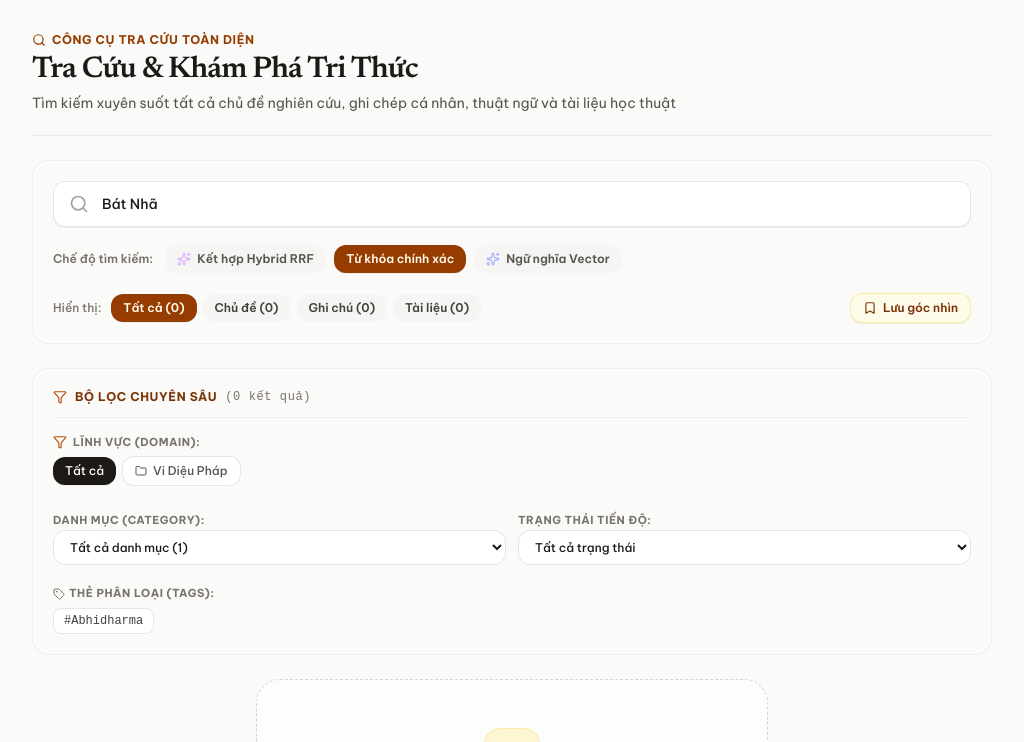
Test case: Phase P7.3b: AdvancedSearch Saved Views UI Integration › 1.2. toggles inline save panel and creates a new saved view with optional pin
Click the button "Lưu góc nhìn" at (910,308), box [850,293,971,323]
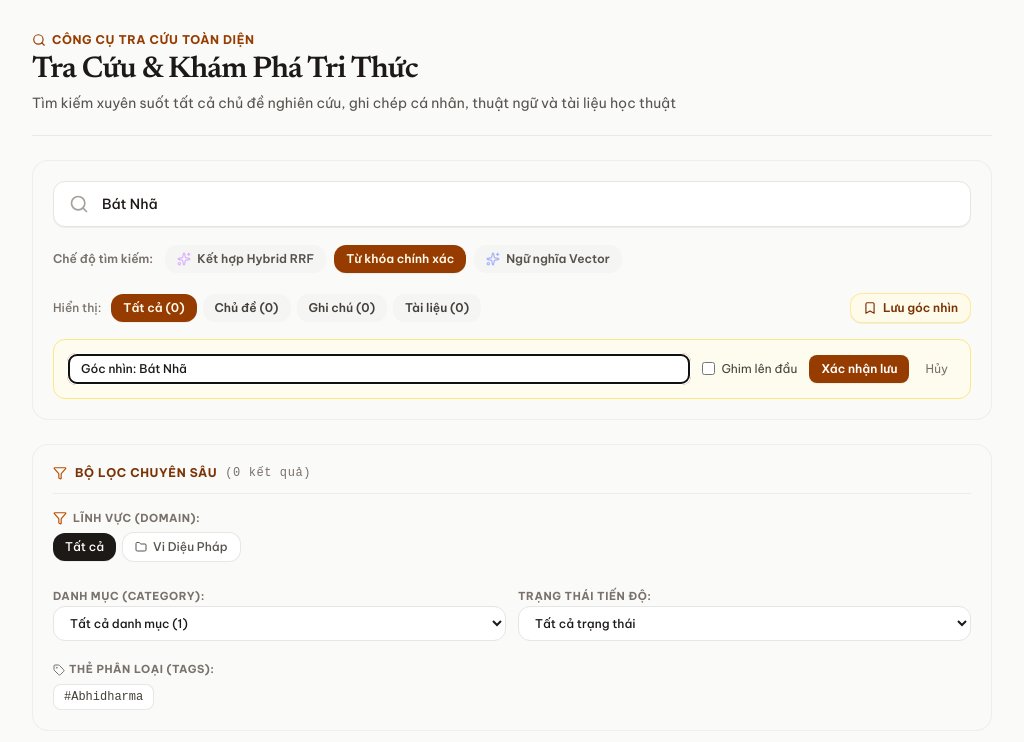
# Inline form appears
Replace the text in the field with placeholder "Tên góc nhìn nghiên cứu..." next to "Ghim lên đầu" with "Chuyên Đề Bát Nhã" at (379,369), box [68,354,690,384]
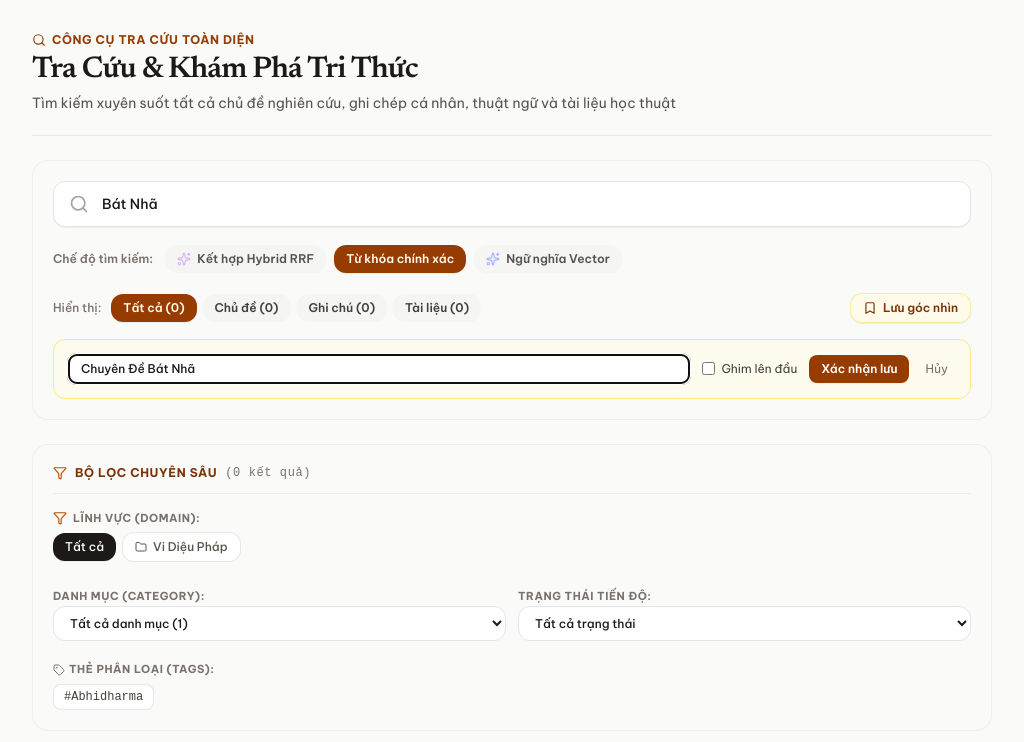
Click the checkbox labelled "Ghim lên đầu" at (709,369), box [702,362,715,375]
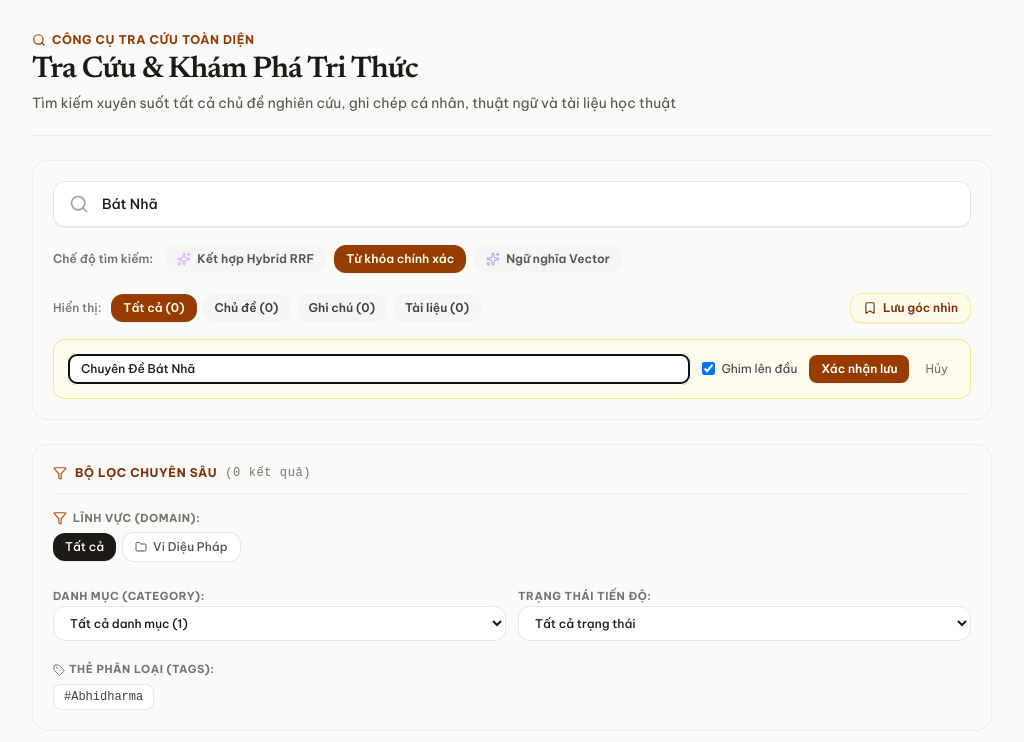
Click the button "Xác nhận lưu" at (859,369), box [809,355,909,383]
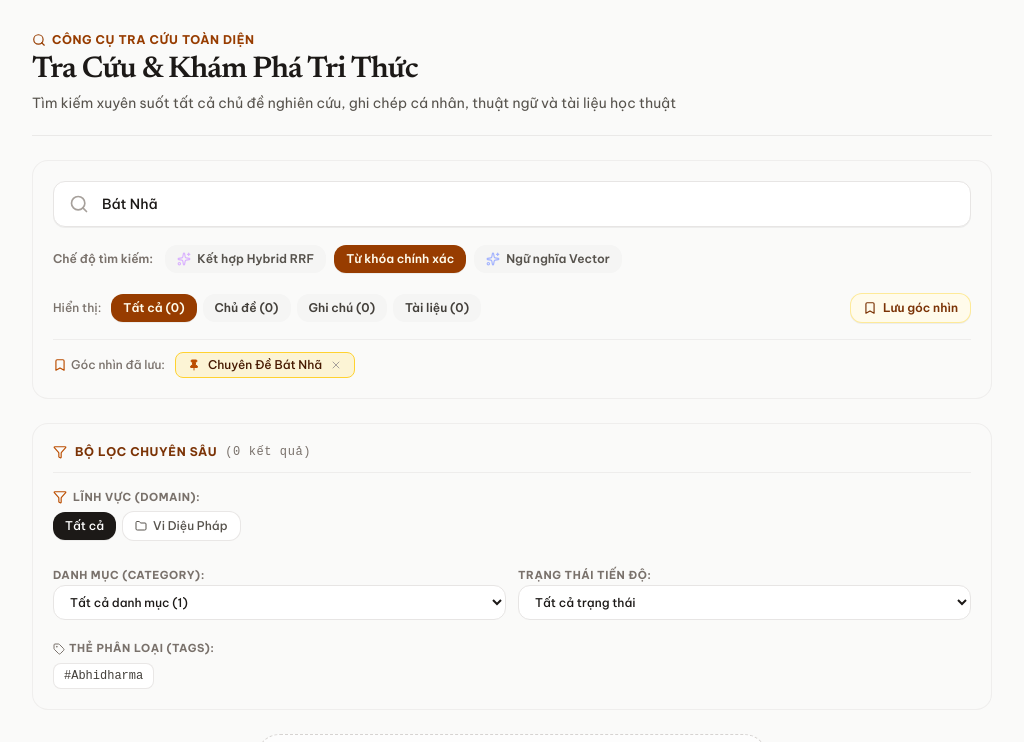
Expected: the text "Chuyên Đề Bát Nhã" is shown, [208,357,322,373]
